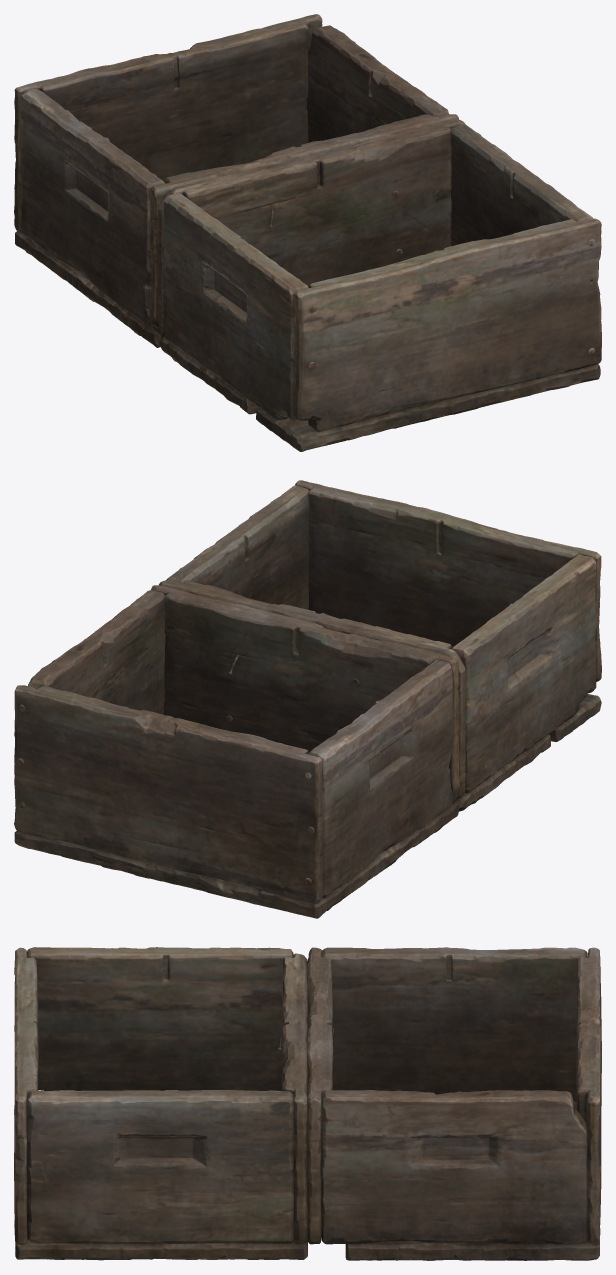
File: met-wooden-crate01a.glb
The picture shows the model from 3 angles, top to bottom: view 1: azimuth 30°, elevation 25°; view 2: azimuth 150°, elevation 25°; view 3: azimuth 270°, elevation 25°; orthographic projection. The views are drawn at different scales.
Parts seen in each view (by area): view 1: SM_MET_WoodenCrate01a_c1_LOD0; view 2: SM_MET_WoodenCrate01a_c1_LOD0; view 3: SM_MET_WoodenCrate01a_c1_LOD0.
Boxes of the visible parts, left/top/right/bottom form: SM_MET_WoodenCrate01a_c1_LOD0: left=14, top=14, right=601, bottom=451; SM_MET_WoodenCrate01a_c1_LOD0: left=14, top=480, right=601, bottom=918; SM_MET_WoodenCrate01a_c1_LOD0: left=14, top=947, right=601, bottom=1260.
Bounding box in the file's own units: 0.4039 × 0.2052 × 0.6534.
1 material, 1 textured.
